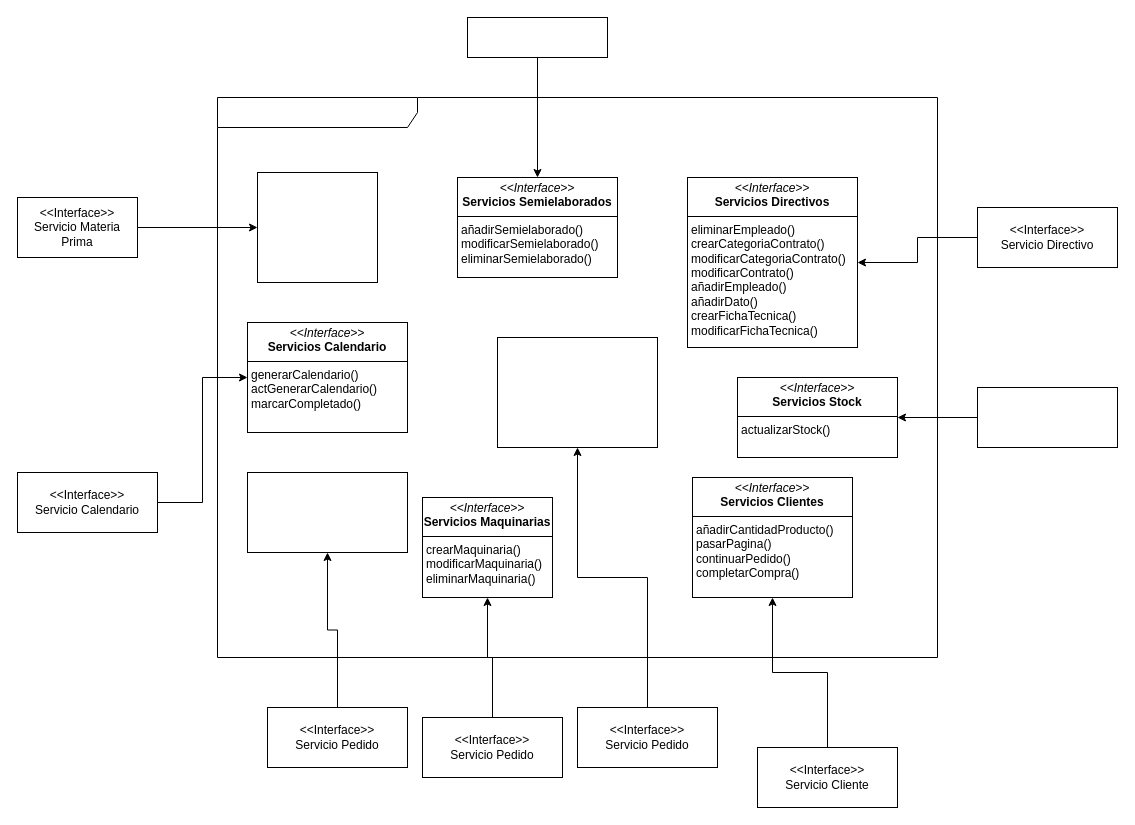
Image size: 1135x825. Some labels were removed from this diagram. Here are the shapes that lost their labels. From the top down, the box of each, then its label:
(466, 16, 608, 58): <<Interface>> Servicio Semielaborado
(256, 172, 378, 282): <<Interface>> Servicios Materias Primas añadirMP() modificarMP() eliminarMP()
(216, 96, 938, 658): diagrama de interfaz de servicios
(496, 336, 658, 448): <<Interface>> Servicios Productos Finales añadirPF() modificarPF() eliminarPF()
(976, 386, 1118, 448): <<Interface>> Servicio Stock
(246, 472, 408, 552): <<Interface>> Servicios Pedidos añadirPedido() importarDatosExcel()
